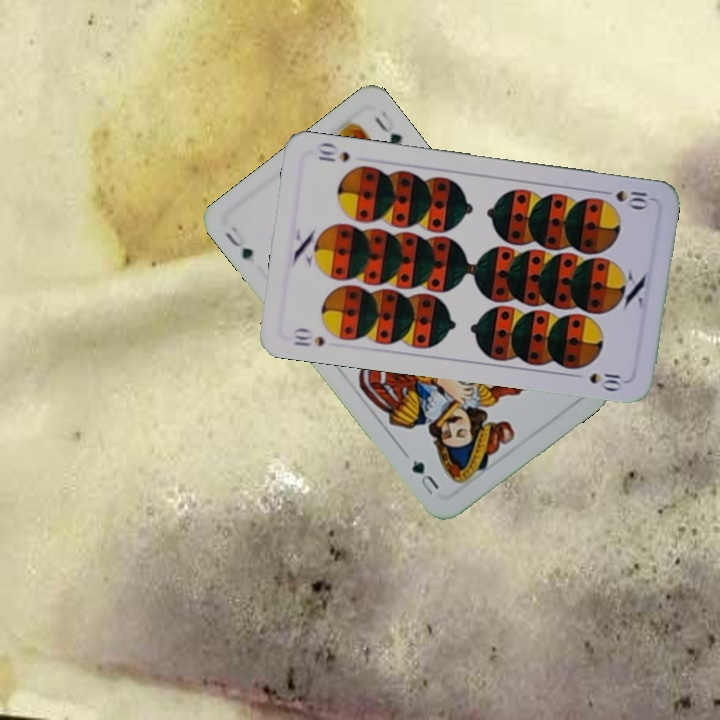GU: (220, 222, 256, 264)
S10: (595, 186, 654, 210), (290, 324, 327, 350)
